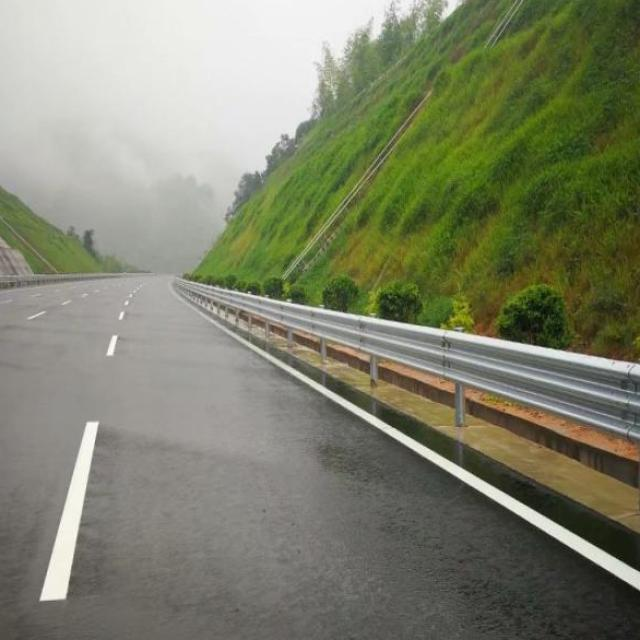Guard rail: (174, 278, 640, 443)
